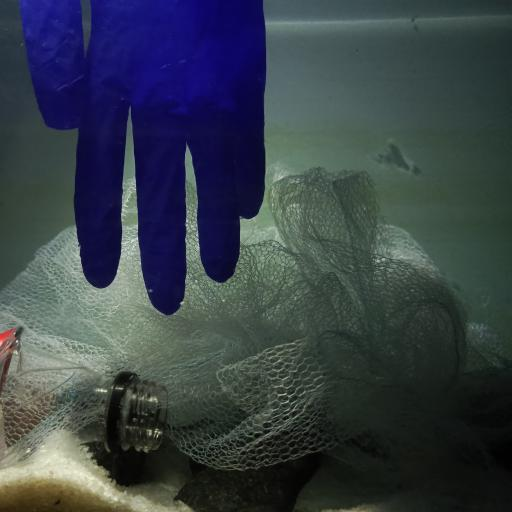glove: (19, 0, 268, 317)
net: (0, 162, 499, 474)
plastic_bottle: (0, 326, 168, 472)
